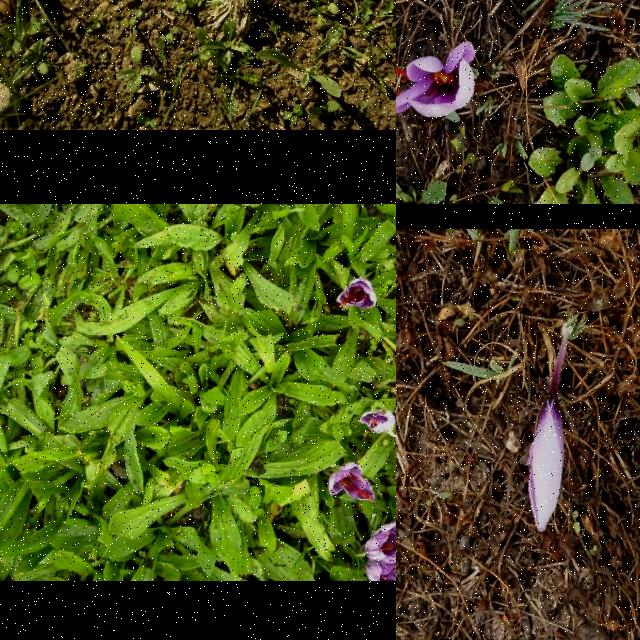flower: (396, 41, 475, 116), (528, 387, 566, 533), (328, 462, 376, 502), (336, 278, 376, 308), (357, 409, 396, 434)
overlap: (364, 520, 396, 579)
